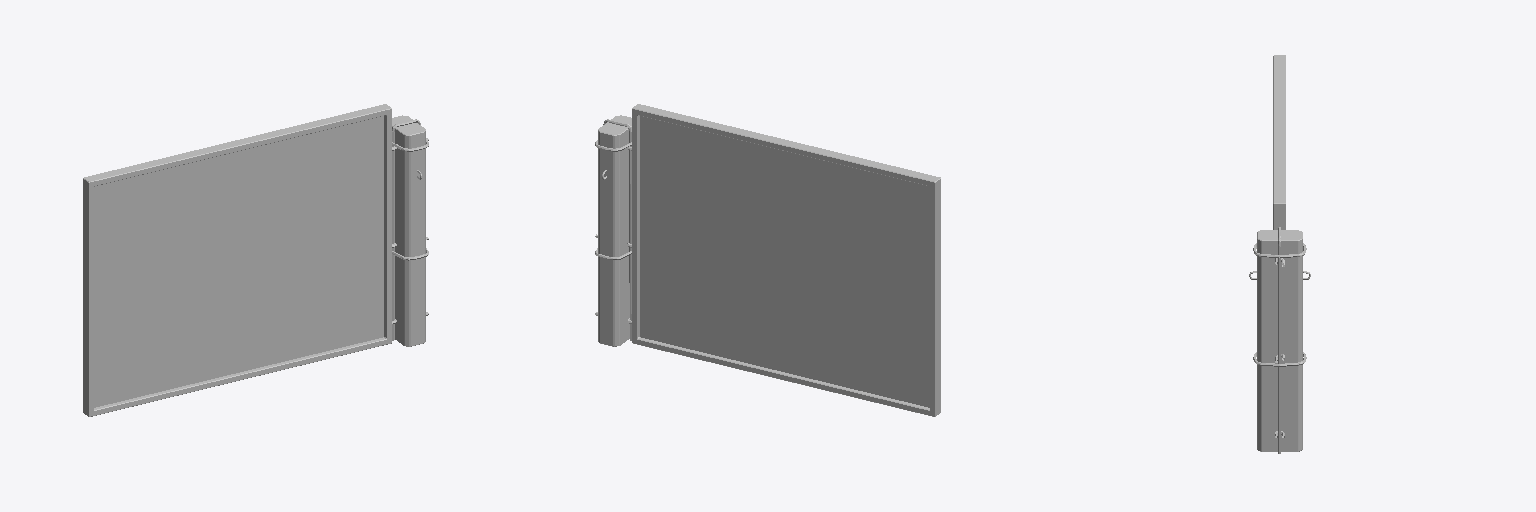
Rendered from fencechain.obj.
The picture shows the model from 3 angles: view 1: azimuth 30°, elevation 25°; view 2: azimuth 150°, elevation 25°; view 3: azimuth 270°, elevation 25°; orthographic projection.
Visible parts, largest first — view 1: Fence_Chainlink_6m; view 2: Fence_Chainlink_6m; view 3: Fence_Chainlink_6m.
Part boxes in pixels (left/top/right/bottom): Fence_Chainlink_6m: left=83, top=104, right=428, bottom=416; Fence_Chainlink_6m: left=595, top=104, right=940, bottom=416; Fence_Chainlink_6m: left=1249, top=55, right=1310, bottom=453.
Bounding box in the file's own units: 3.03 × 2 × 0.4754.